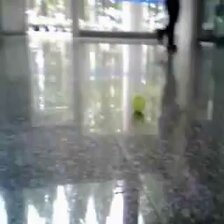tennis: (131, 93, 145, 111)
